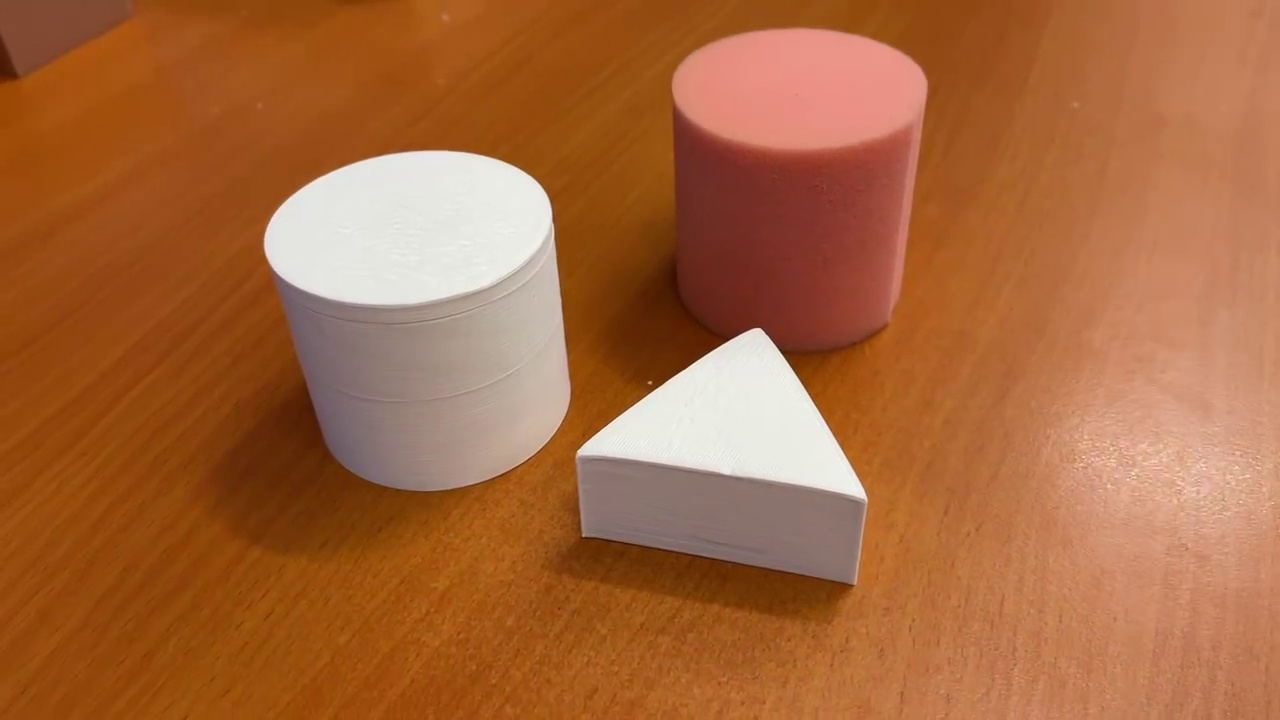Cylinder: (249, 142, 585, 501), (666, 20, 933, 359)
Triangle_short: (568, 322, 869, 592)
